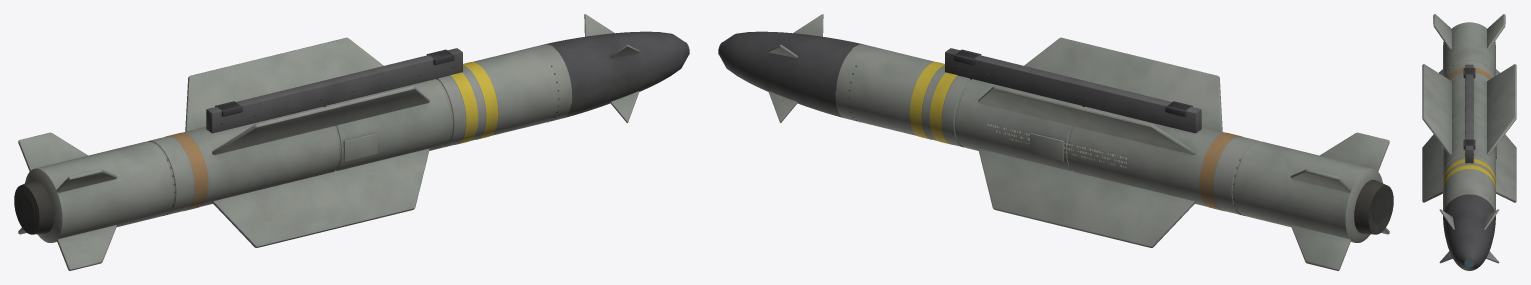
File: agm_2.glb
3 views of the same model, side by side, from view 1: azimuth 30°, elevation 25°; view 2: azimuth 150°, elevation 25°; view 3: azimuth 270°, elevation 25° (orthographic). The views are drawn at different scales.
Parts seen in each view (by area): view 1: agm_2; view 2: agm_2; view 3: agm_2.
Boxes of the visible parts, bbox=[...] form: agm_2: bbox=[14, 14, 689, 270]; agm_2: bbox=[718, 14, 1393, 270]; agm_2: bbox=[1422, 14, 1516, 270].
Bounding box in the file's own units: 0.996 × 0.1789 × 0.1789.
9 materials, 9 textured.
